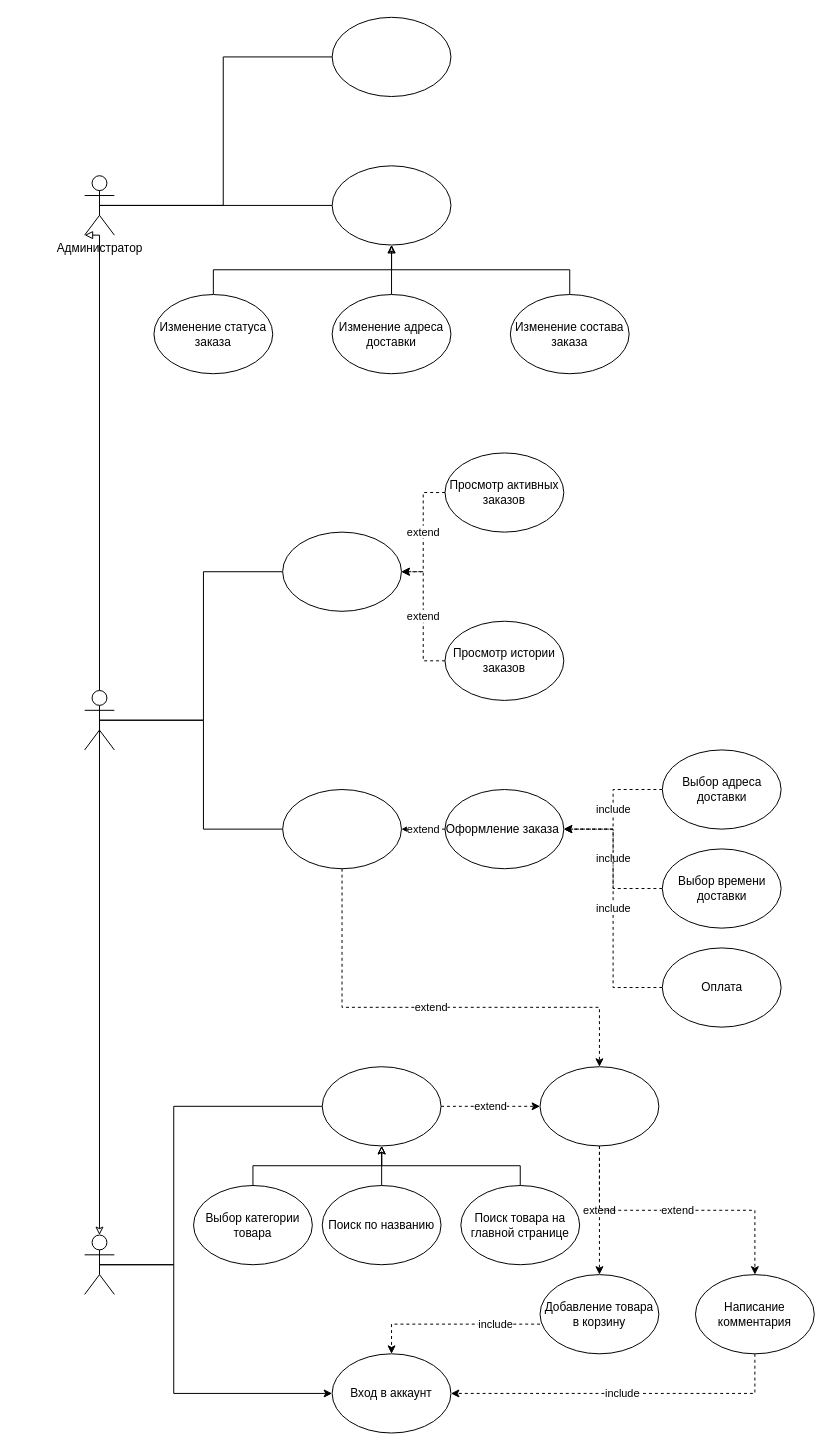
Some shapes in this 832 by 1450 pixel diagram are drawn without their labels. Here are the shapes that lost their labels. From the top down, the centre of each, then its label:
At [391,56]: "Изменение информации о товарах".
At [391,205]: "Изменение информации о заказах пользователей".
At [341,571]: "Открытие информации об аккаунте".
At [99,720]: "Авторизованый пользователь".
At [341,829]: "Открыть корзину".
At [381,1106]: "Поиск товара".
At [599,1106]: "Открытие информации о товаре".
At [99,1264]: "Пользователь".
